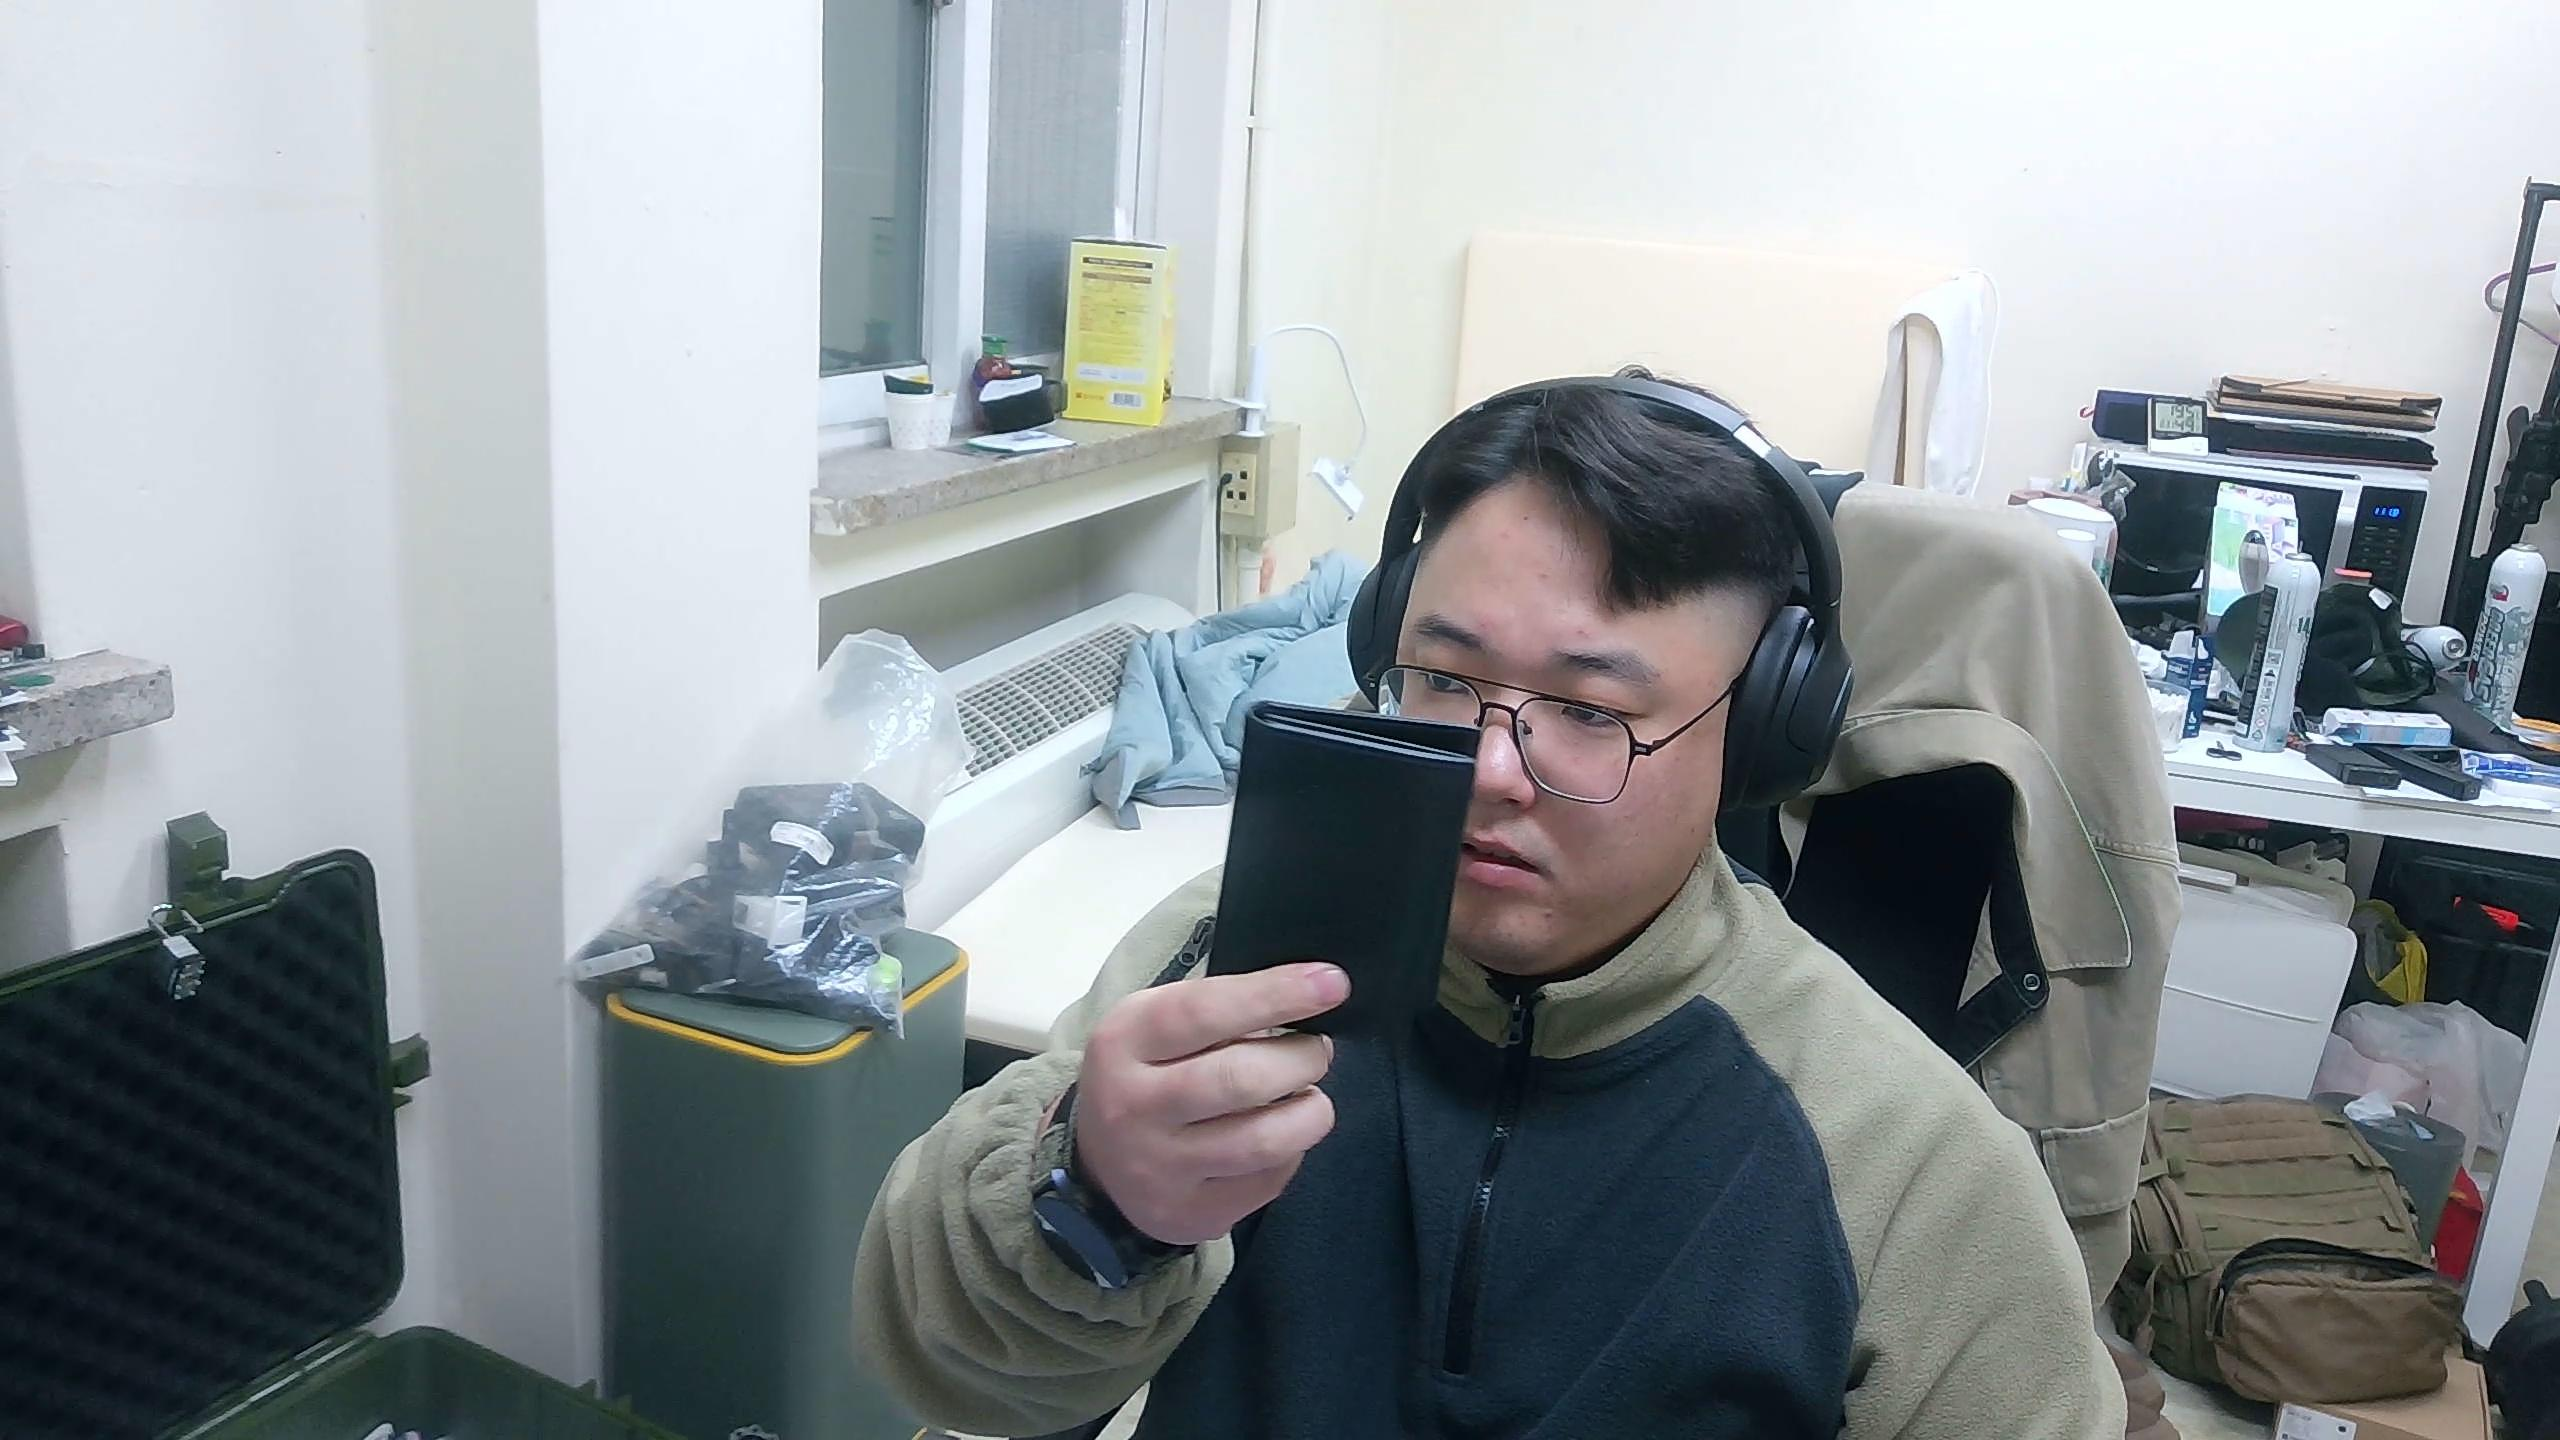earphone: (1204, 696, 1486, 1044)
